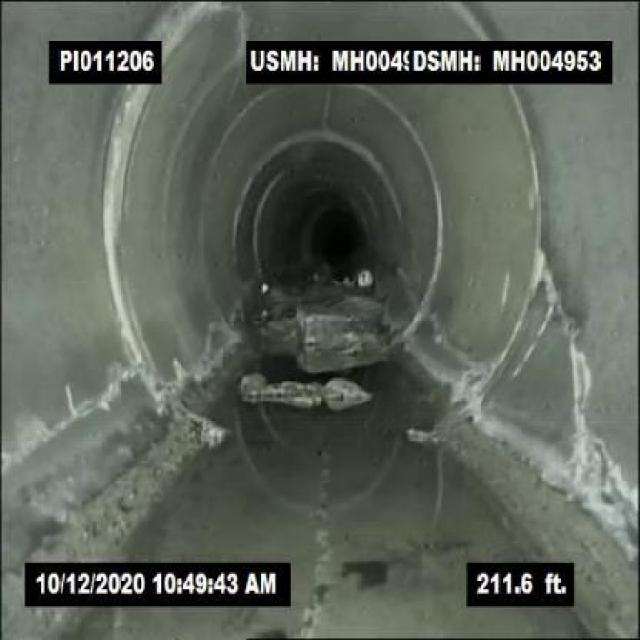Crack: (540, 258, 608, 456), (8, 364, 130, 474), (566, 452, 639, 543)
Debris: (232, 366, 374, 414)
